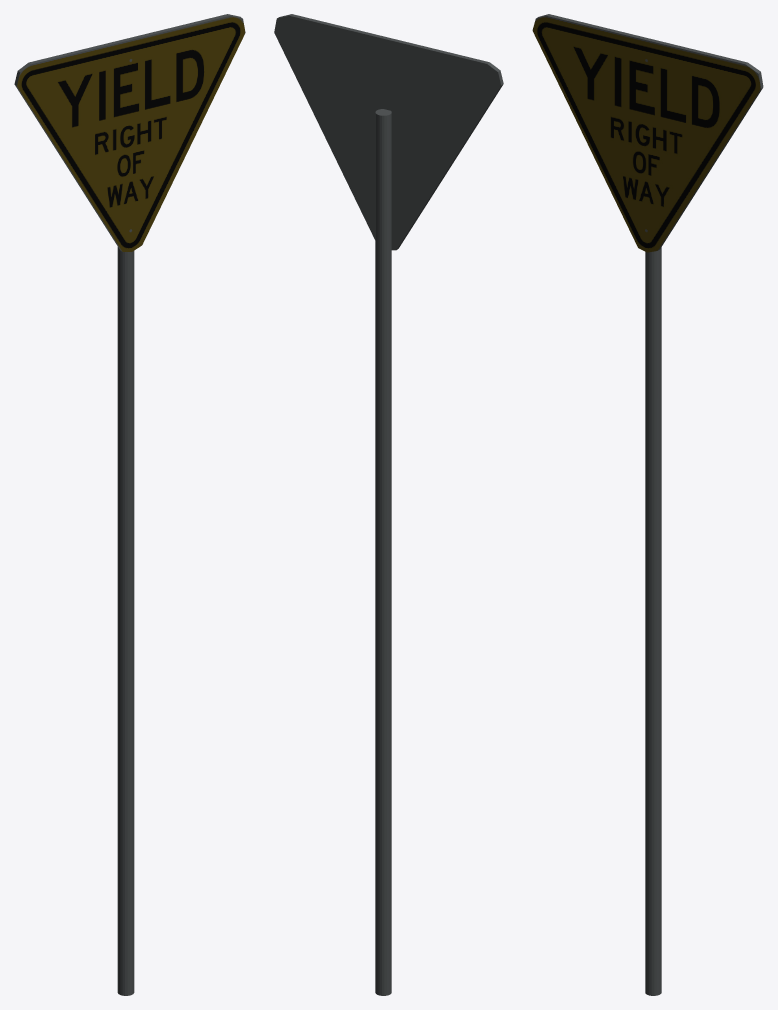
File: YeildSign.fbx
3 views of the same model, side by side, from view 1: azimuth 30°, elevation 25°; view 2: azimuth 150°, elevation 25°; view 3: azimuth 330°, elevation 25° (orthographic).
Parts seen in each view (by area): view 1: Sign, Post; view 2: Sign, Post; view 3: Sign, Post.
Boxes of the visible parts, x1,y1,x2,y2 form: Sign: (14,14,245,251); Post: (117,247,134,995); Sign: (274,14,503,250); Post: (375,109,391,995); Sign: (532,14,763,252); Post: (645,247,661,995).
Size of what is drawn, in the model's own units: 160 by 639 by 12.24.
